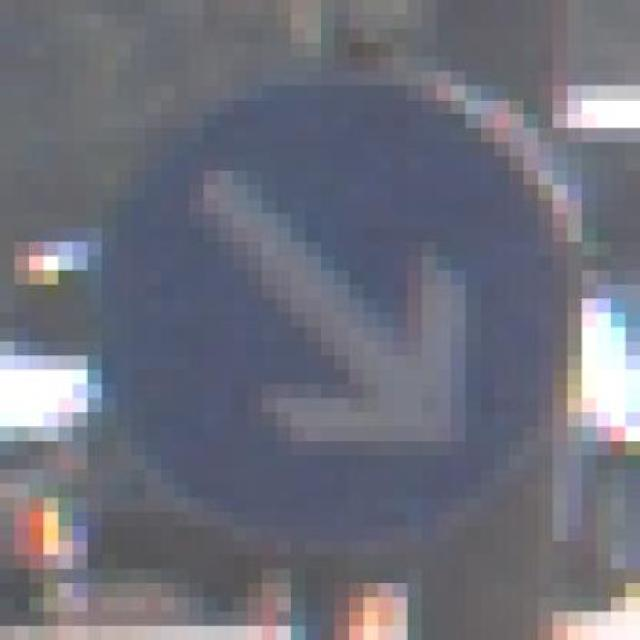Keep-Right: (72, 57, 597, 555)
